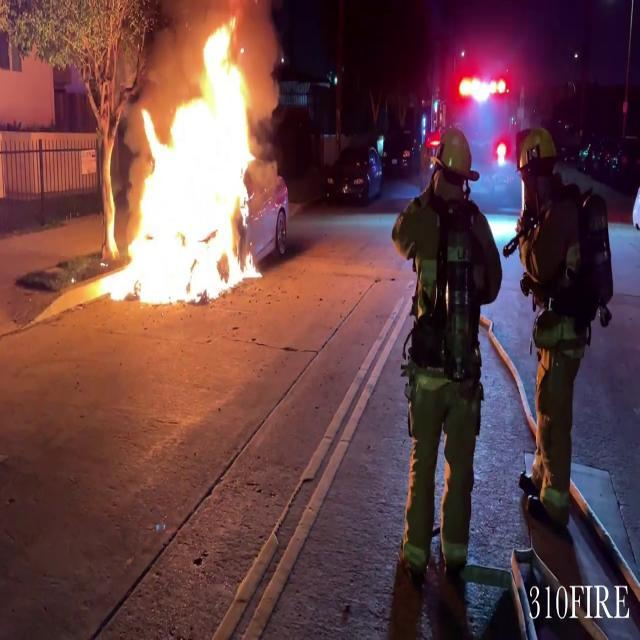Fire: (98, 8, 266, 308)
